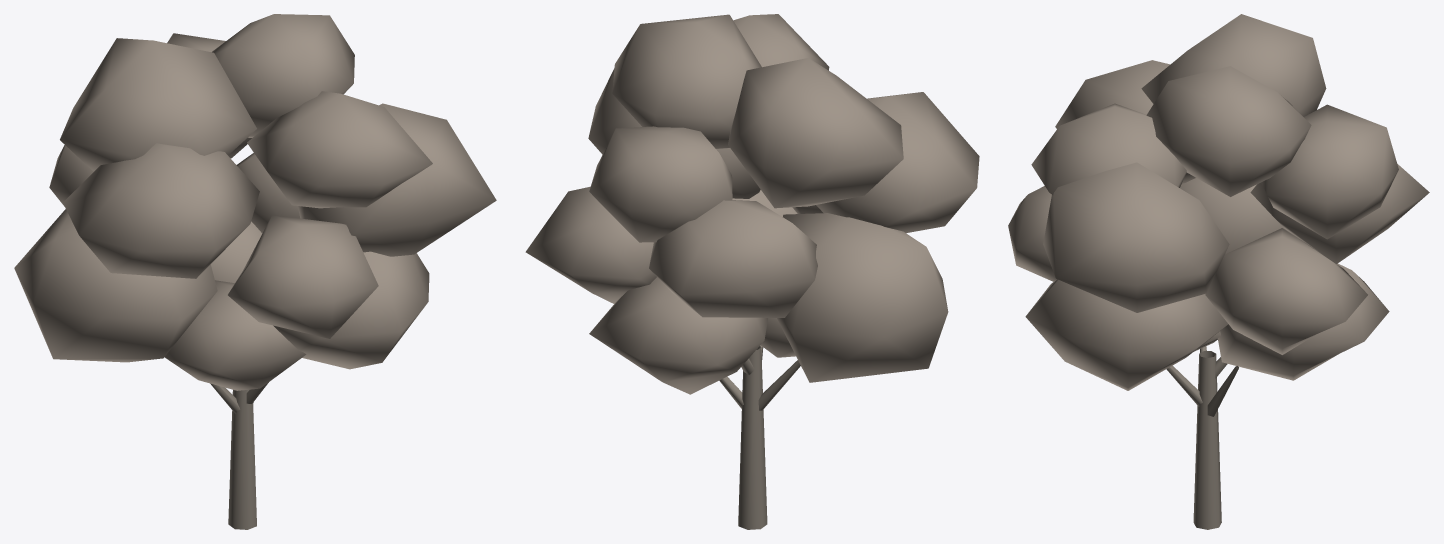
Rendered from tree_maple.glb.
The picture shows the model from 3 angles, left to right: view 1: azimuth 30°, elevation 25°; view 2: azimuth 150°, elevation 25°; view 3: azimuth 270°, elevation 25°; orthographic projection. The views are drawn at different scales.
Visible parts, largest first — view 1: tree_maple; view 2: tree_maple; view 3: tree_maple.
Boxes of the visible parts, bbox=[...] form: tree_maple: bbox=[14, 14, 496, 529]; tree_maple: bbox=[525, 14, 979, 529]; tree_maple: bbox=[1008, 14, 1429, 529].
Bounding box in the file's own units: 8.47 × 10.16 × 8.12.
